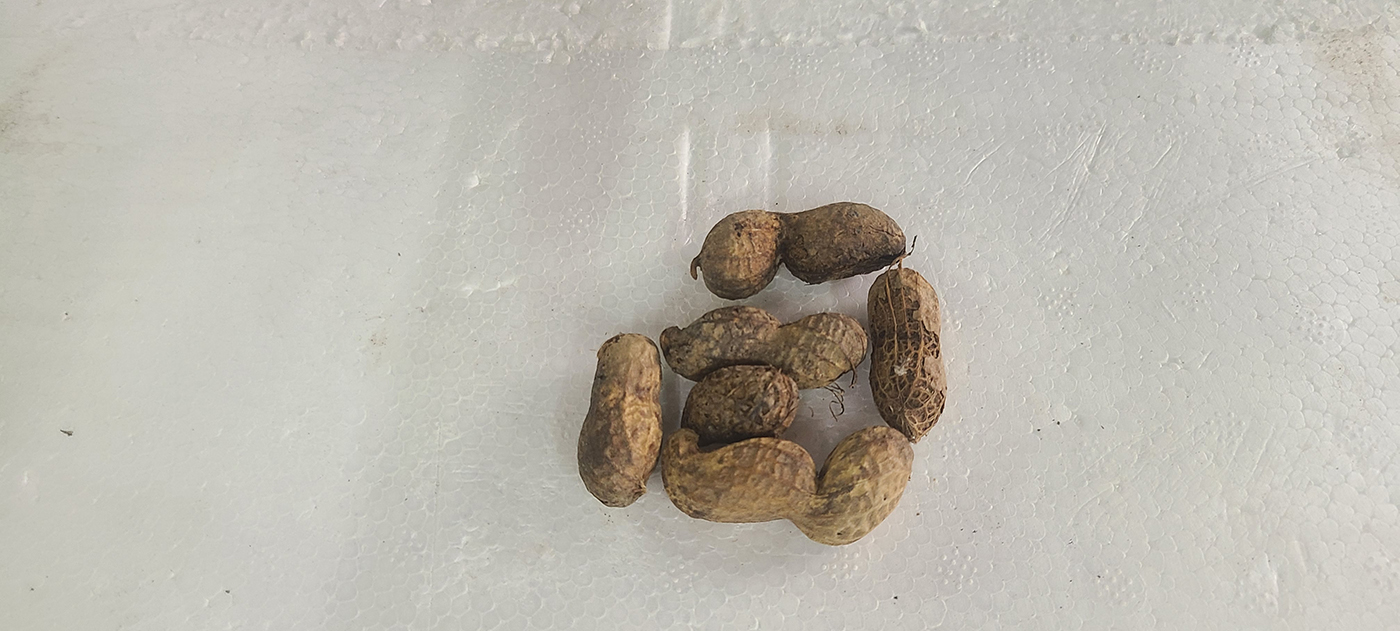l: (660, 425, 911, 545), (698, 201, 909, 301), (659, 307, 869, 389), (576, 334, 662, 505), (867, 270, 949, 437), (679, 362, 801, 439)
